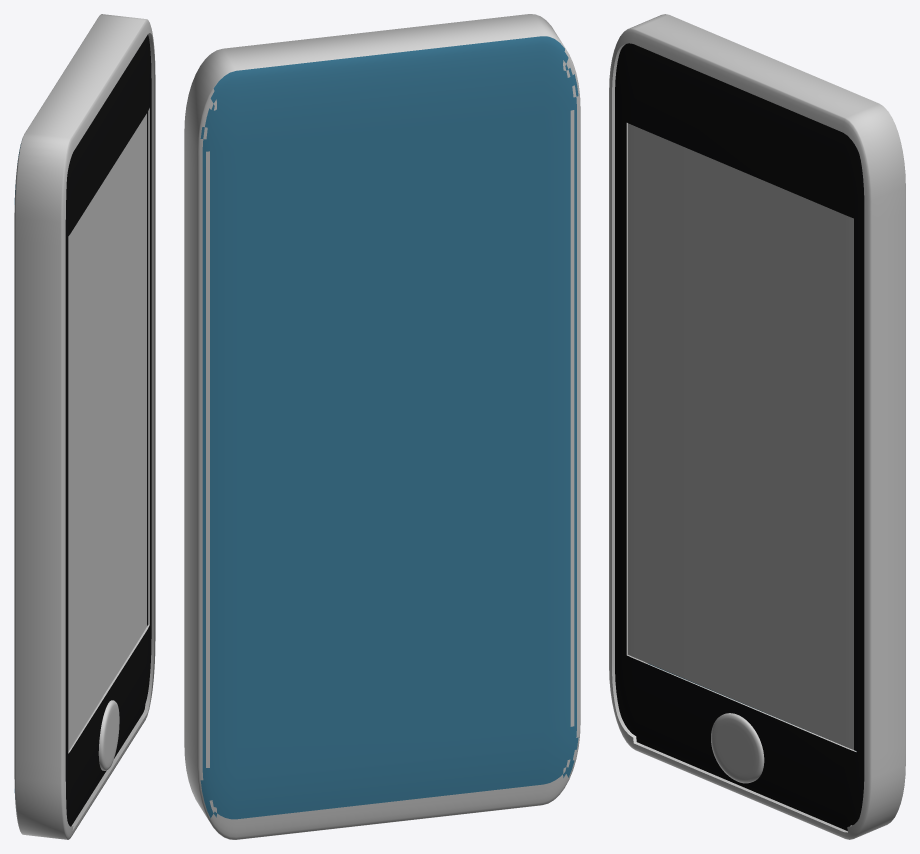
File: Iphone 5c-1.dae
3 renders of one model, left to right at view 1: azimuth 30°, elevation 25°; view 2: azimuth 150°, elevation 25°; view 3: azimuth 270°, elevation 25°, orthographic. The views are drawn at different scales.
Parts seen in each view (by area): view 1: Cube, Cube_002, Cube_001, Cylinder; view 2: Cube_003, Cube; view 3: Cube_002, Cube_001, Cube, Cylinder.
Part boxes in pixels (box(x1,y1,x2,y2)): Cube: box(14, 14, 155, 839); Cube_002: box(68, 108, 149, 753); Cube_001: box(65, 34, 151, 826); Cylinder: box(98, 700, 119, 770); Cube_003: box(200, 36, 578, 819); Cube: box(184, 14, 580, 839); Cube_002: box(626, 123, 856, 751); Cube_001: box(615, 43, 864, 830); Cube: box(609, 14, 905, 839); Cylinder: box(711, 713, 764, 783).
Size of what is drawn, in the model's own units: 3.17 by 3.17 by 8.51.
